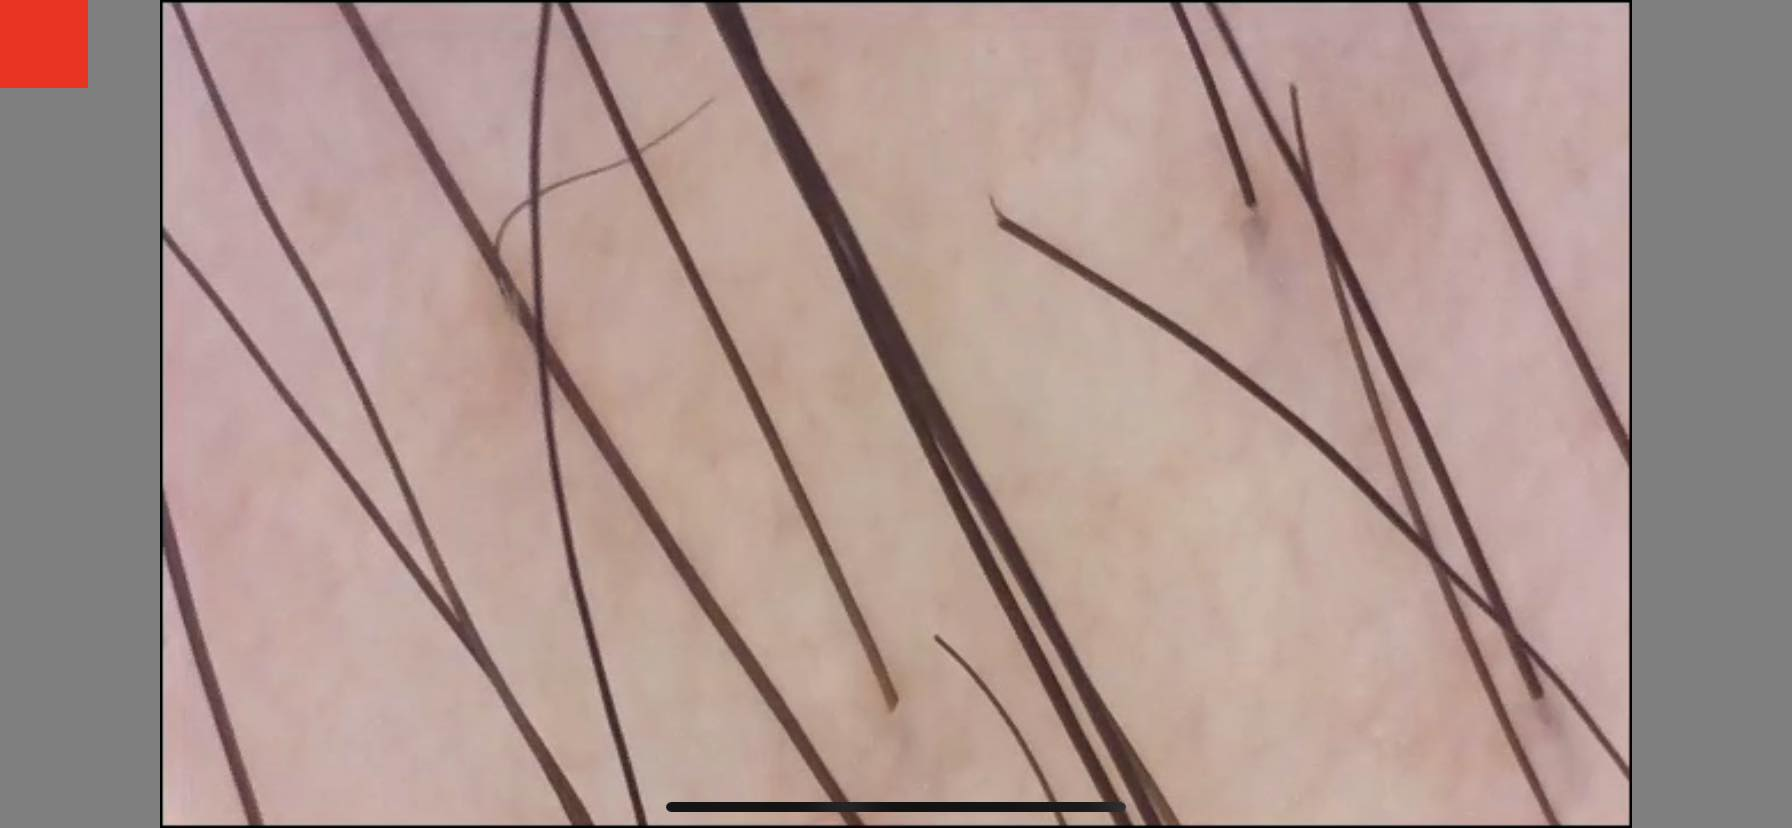FALSE: (690, 81, 728, 120)
TRUE: (1503, 667, 1579, 736), (489, 275, 536, 325), (977, 188, 1021, 239), (1227, 176, 1271, 220), (870, 683, 915, 724), (918, 619, 955, 658), (1272, 69, 1313, 102)
